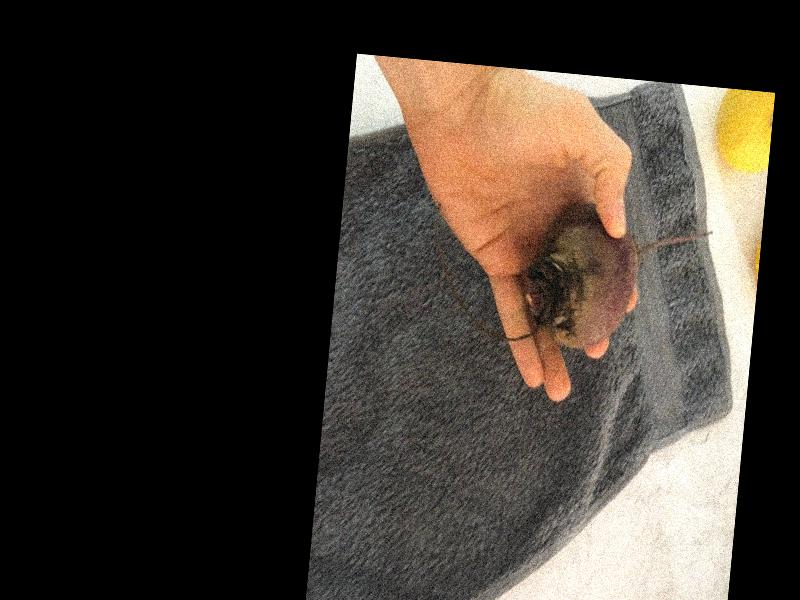Beet: (515, 197, 713, 357)
